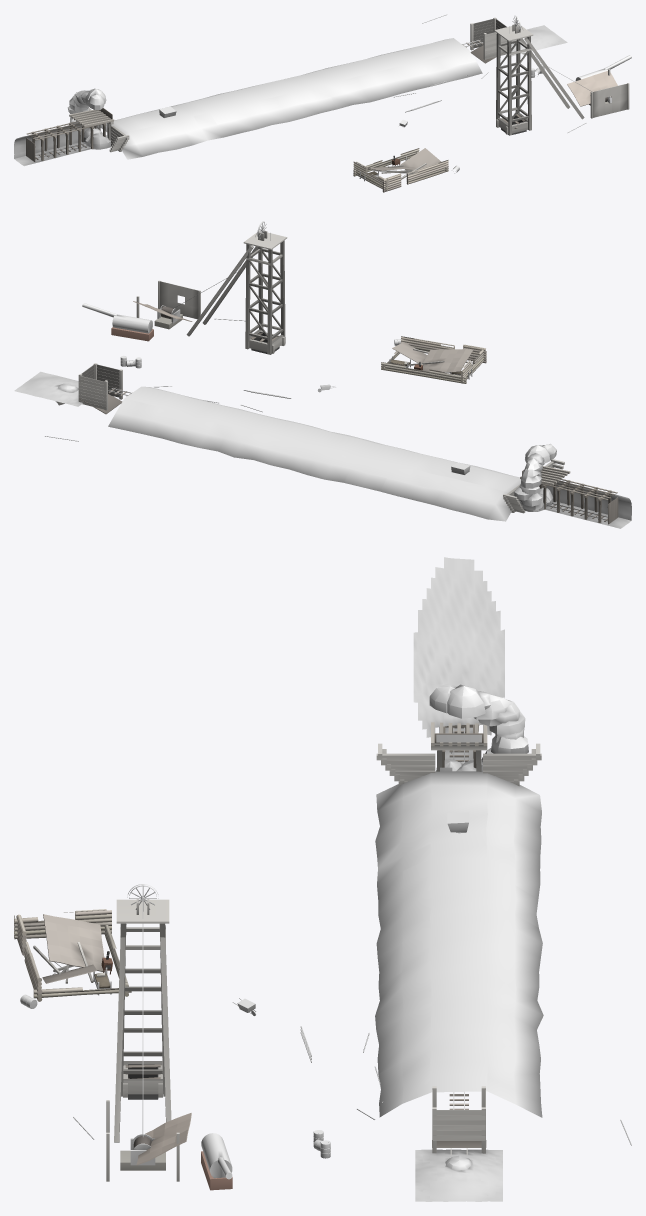
File: ashford_mine.glb
3 renders of one model, top to bottom at view 1: azimuth 30°, elevation 25°; view 2: azimuth 150°, elevation 25°; view 3: azimuth 270°, elevation 25°, orthographic. The views are drawn at different scales.
Visible parts, largest first — view 1: ground, main, detail; view 2: ground, main, detail; view 3: ground, main, detail.
Part boxes in pixels (box(x1,y1,x2,y2)): ground: box(100, 25, 567, 159); main: box(14, 15, 631, 192); detail: box(35, 14, 591, 177); ground: box(14, 371, 520, 521); main: box(55, 221, 631, 528); detail: box(44, 233, 607, 521); ground: box(375, 771, 543, 1201); main: box(14, 557, 541, 1190); detail: box(20, 727, 631, 1158).
Size of the model in its own units: 66.64 by 14.33 by 35.19.
